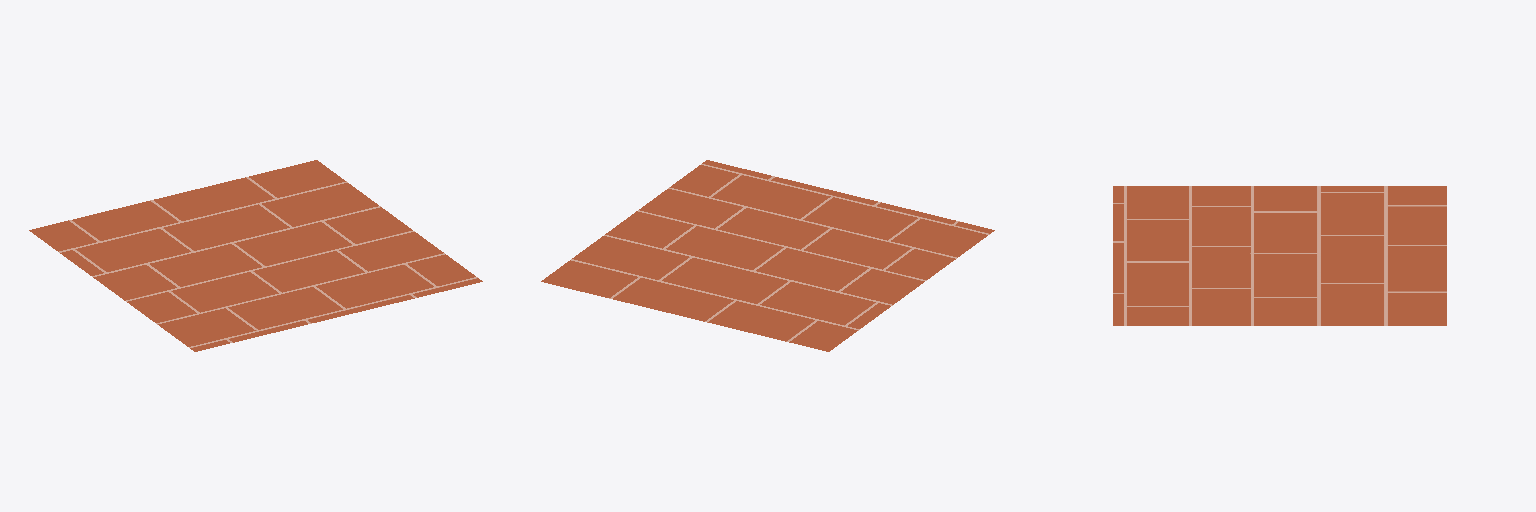
3 views of the same model, side by side, from view 1: azimuth 30°, elevation 25°; view 2: azimuth 150°, elevation 25°; view 3: azimuth 270°, elevation 25° (orthographic).
Visible parts, largest first — view 1: Plane; view 2: Plane; view 3: Plane.
Boxes of the visible parts, box(x1,y1,x2,y2) form: Plane: box(29, 160, 482, 351); Plane: box(541, 160, 994, 351); Plane: box(1113, 186, 1446, 325).
Bounding box in the file's own units: 200 × 0 × 200.
Materials: 1 (1 with a texture image).